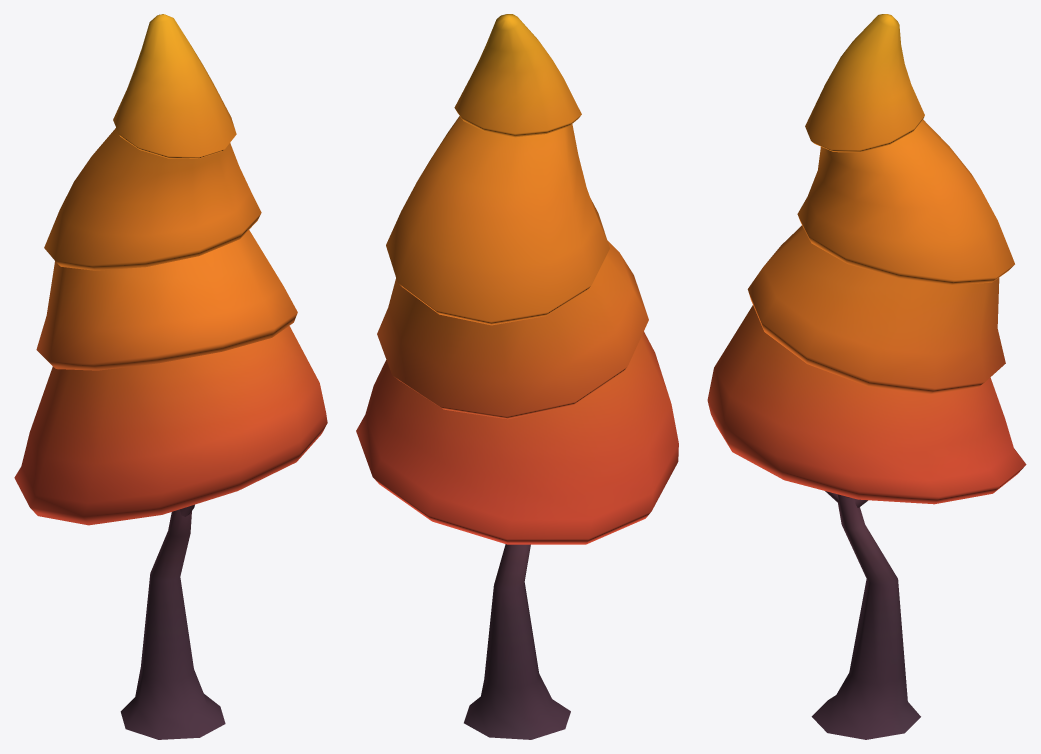
Rendered from tree_autumn_1b.fbx.
The picture shows the model from 3 angles, left to right: view 1: azimuth 30°, elevation 25°; view 2: azimuth 150°, elevation 25°; view 3: azimuth 270°, elevation 25°; orthographic projection.
Visible parts, largest first — view 1: model_0.004; view 2: model_0.004; view 3: model_0.004.
Boxes of the visible parts, x1,y1,x2,y2 form: model_0.004: (14,14,327,739); model_0.004: (356,14,678,739); model_0.004: (707,14,1026,739).
Size of the model in its own units: 176 by 430 by 177.
